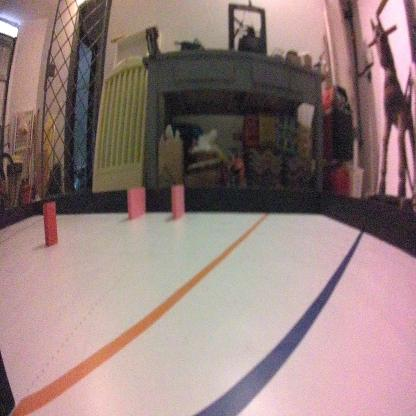magenta: (126, 187, 146, 221), (170, 185, 186, 223)
red: (43, 196, 57, 242)
